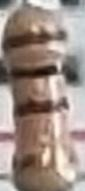Black: (11, 65, 65, 81)
Brown: (3, 29, 64, 50), (14, 97, 71, 117)
Side-Gold: (13, 151, 75, 168)
